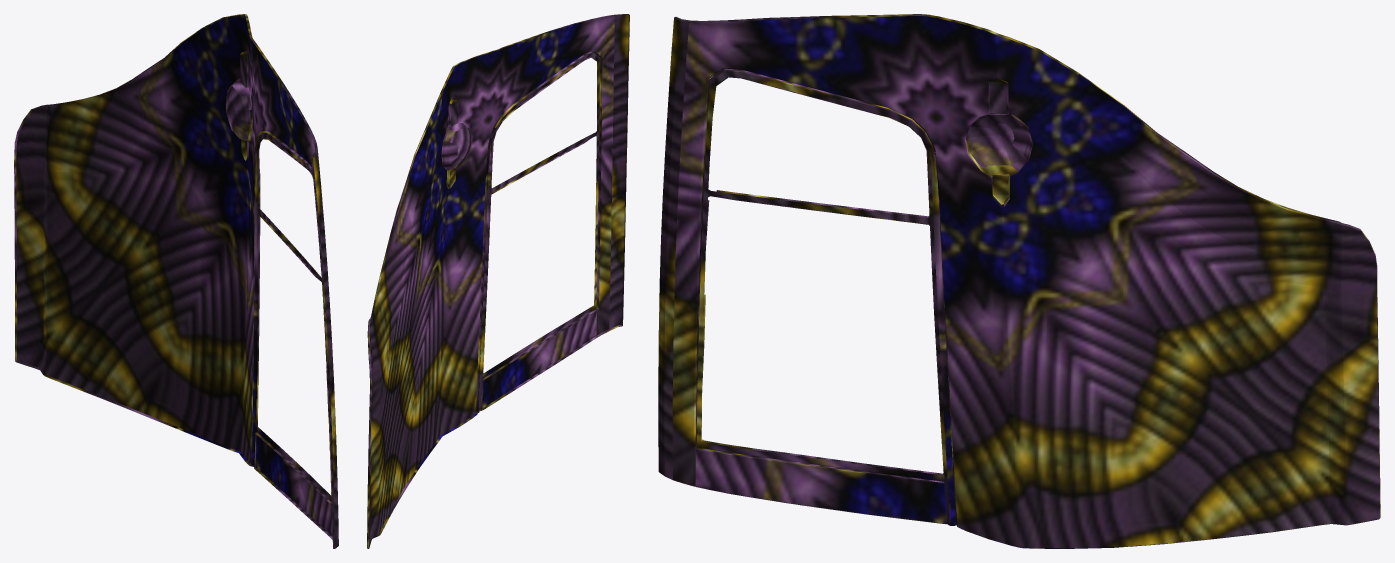
File: door_rr_big.obj
3 renders of one model, left to right at view 1: azimuth 30°, elevation 25°; view 2: azimuth 150°, elevation 25°; view 3: azimuth 270°, elevation 25°, orthographic. The views are drawn at different scales.
Parts seen in each view (by area): view 1: Door_Rr; view 2: Door_Rr; view 3: Door_Rr.
Part boxes in pixels (box(x1,y1,x2,y2)): Door_Rr: box(14, 14, 338, 548); Door_Rr: box(367, 14, 629, 548); Door_Rr: box(658, 14, 1380, 548).
Size of the model in its own units: 0.1535 by 0.8302 by 1.03.
Materials: 1 (1 with a texture image).
